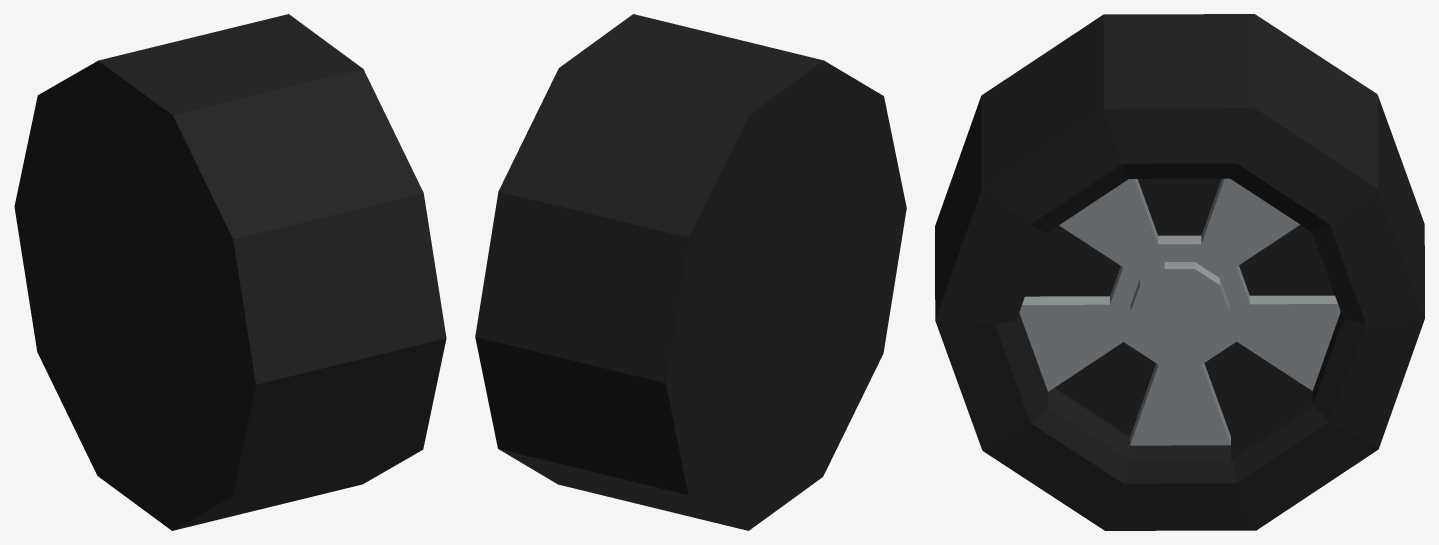
Rendered from Wheel_01.glb.
3 renders of one model, left to right at view 1: azimuth 30°, elevation 25°; view 2: azimuth 150°, elevation 25°; view 3: azimuth 270°, elevation 25°, orthographic.
Visible parts, largest first — view 1: Wheel_01; view 2: Wheel_01; view 3: Wheel_01.
Boxes of the visible parts, x1,y1,x2,y2 form: Wheel_01: [14, 14, 446, 530]; Wheel_01: [475, 14, 906, 530]; Wheel_01: [935, 14, 1424, 530].
Size of the model in its own units: 0.2755 by 0.5518 by 0.5797.
Materials: 1 (1 with a texture image).
